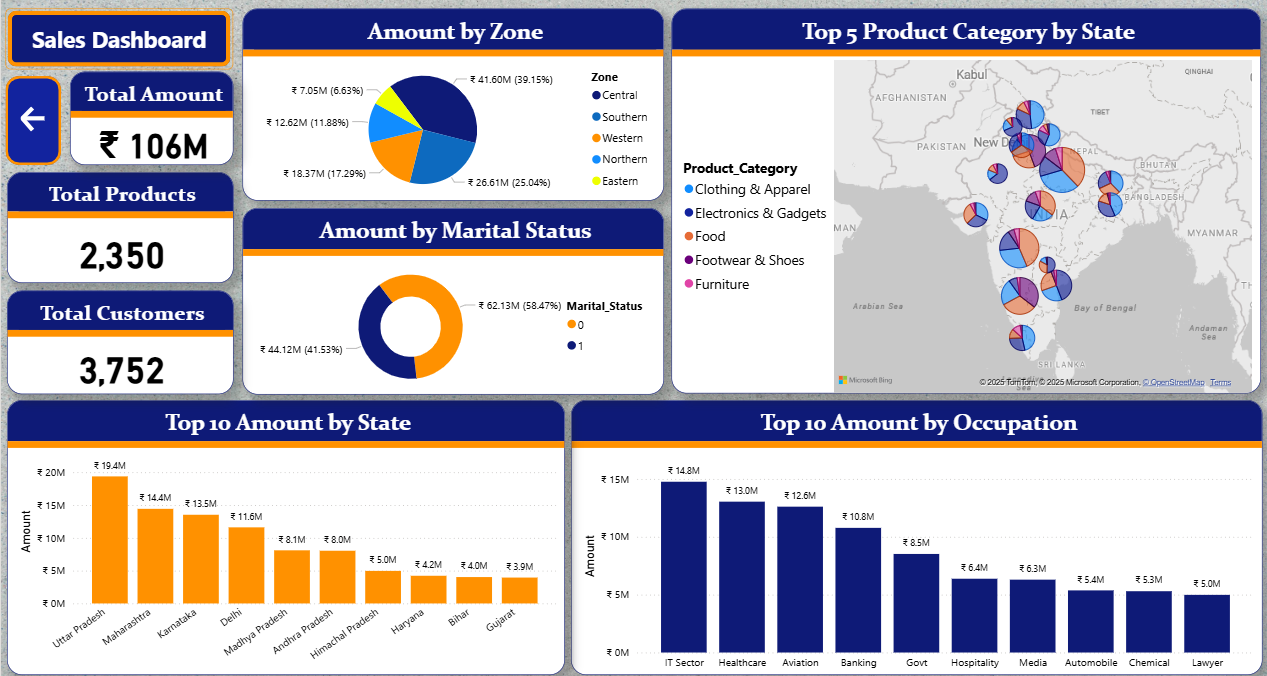

This screenshot's page, from the dashboard's own definition file:
{"tool":"powerbi","page":{"name":"Dashboard 2","canvas":[1500,800],"ordinal":1},"visuals":[{"type":"clusteredColumnChart","title":"Top 10 Amount by Occupation","fields":{"Category":["Sales_data.Occupation"],"Y":["Sum(Sales_data.Amount)"]},"box":[673.7,469,818,325.1],"z":0},{"type":"clusteredColumnChart","title":"Top 10 Amount by State ","fields":{"Category":["Sales_data.State"],"Y":["Sum(Sales_data.Amount)"]},"box":[7,469,660,325],"z":1000},{"type":"pieChart","title":"Amount by Zone","fields":{"Category":["Sales_data.Zone"],"Y":["Sum(Sales_data.Amount)"]},"box":[285.4,5,498.8,227],"z":2000},{"type":"card","title":"Total Products","fields":{"Values":["Count(Sales_data.Product_ID)"]},"box":[7.4,198.5,268,131.5],"z":3000},{"type":"donutChart","title":"Amount by Marital Status","fields":{"Category":["Sales_data.Marital_Status"],"Y":["Sum(Sales_data.Amount)"]},"box":[285.4,240.7,498.8,220.8],"z":4000},{"type":"map","title":"Top 5 Product Category by State","fields":{"Category":["Sales_data.State"],"Size":["CountNonNull(Sales_data.Product_Category)"],"Series":["Sales_data.Product_Category"]},"box":[794,5,697.3,455.3],"z":5000},{"type":"card","title":"Total Amount","fields":{"Values":["Sum(Sales_data.Amount)"]},"box":[81.9,79.4,193.5,110.4],"z":6000},{"type":"actionButton","title":"Move to Previous Page","box":[6.2,79.4,65.8,110.4],"z":7000},{"type":"shape","title":"Sales Dashboard","box":[6.2,5,269.2,72],"z":8000},{"type":"card","title":"Total Customers","fields":{"Values":["Count(Sales_data.User_ID)"]},"box":[7.4,338.7,268,122.8],"z":12001}]}

Visuals, with their boxes in screenshot pixels (x1, y1, x2, y2), scaled from the page's 1500x800 canvas onto the 1267x676 screenshot:
"Top 10 Amount by Occupation" clusteredColumnChart: 569:396:1260:671
"Top 10 Amount by State " clusteredColumnChart: 6:396:563:671
"Amount by Zone" pieChart: 241:4:662:196
"Total Products" card: 6:168:233:279
"Amount by Marital Status" donutChart: 241:203:662:390
"Top 5 Product Category by State" map: 671:4:1260:389
"Total Amount" card: 69:67:233:160
"Move to Previous Page" actionButton: 5:67:61:160
"Sales Dashboard" shape: 5:4:233:65
"Total Customers" card: 6:286:233:390
